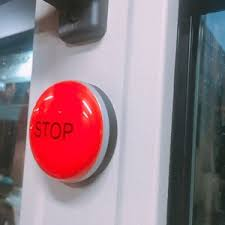bell: (27, 79, 120, 190)
